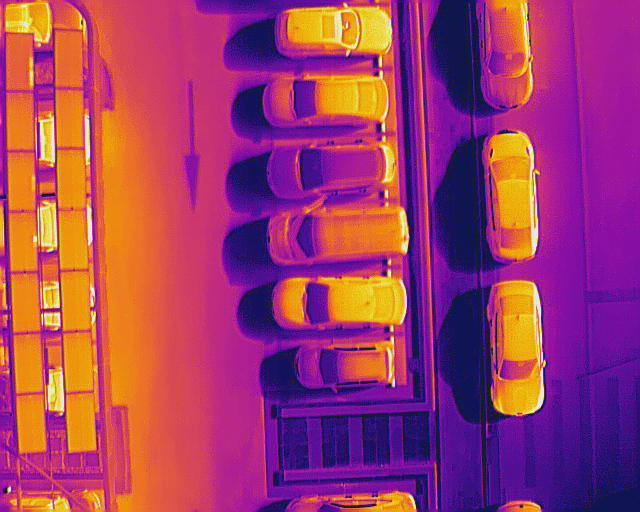Cell: (8, 210, 38, 273)
Cell-Multi: (3, 34, 34, 94)
No-Anomaly: (62, 330, 94, 395), (11, 332, 43, 395), (9, 272, 40, 336), (53, 29, 84, 90), (55, 148, 85, 211), (59, 207, 89, 270), (65, 393, 97, 452), (4, 91, 34, 152), (6, 152, 36, 212), (61, 271, 90, 333), (55, 89, 84, 149), (16, 395, 46, 453)
